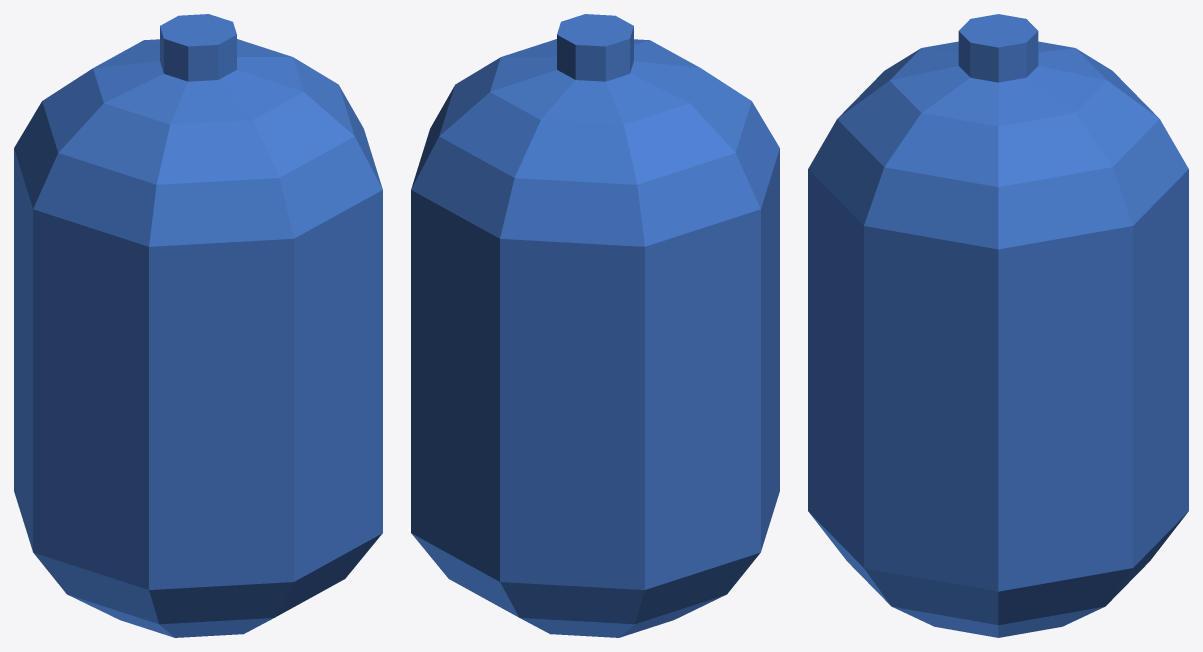
Rendered from WaterBottleLarge.fbx.
3 renders of one model, left to right at view 1: azimuth 30°, elevation 25°; view 2: azimuth 150°, elevation 25°; view 3: azimuth 270°, elevation 25°, orthographic.
Visible parts, largest first — view 1: WaterBottleLarge; view 2: WaterBottleLarge; view 3: WaterBottleLarge.
Boxes of the visible parts, x1=… form: WaterBottleLarge: x1=14, y1=14, x2=382, y2=637; WaterBottleLarge: x1=411, y1=14, x2=779, y2=637; WaterBottleLarge: x1=808, y1=14, x2=1188, y2=637.
Bounding box in the file's own units: 29.66 × 48.91 × 29.66.
